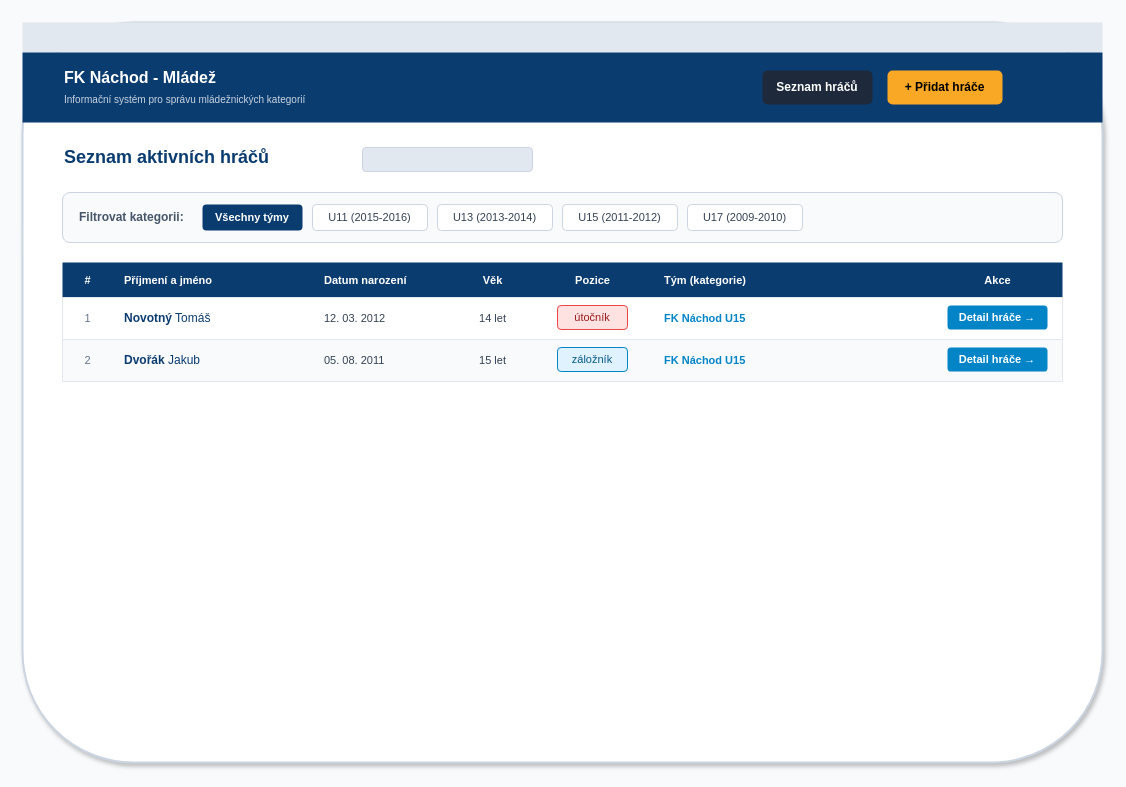
Image size: 1126x787. Some labels were removed from this diagram. The shapes that lost their labels are listed below. From the top down, each one's centre as x and y in pixels, then its label:
point 562,37: ● ● ● http://localhost/fotbalovy-klub/index.php
point 447,159: Zobrazeno celkem: 8 hráčů
